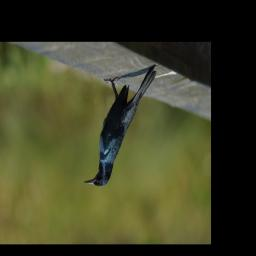Crow: (84, 65, 158, 188)
